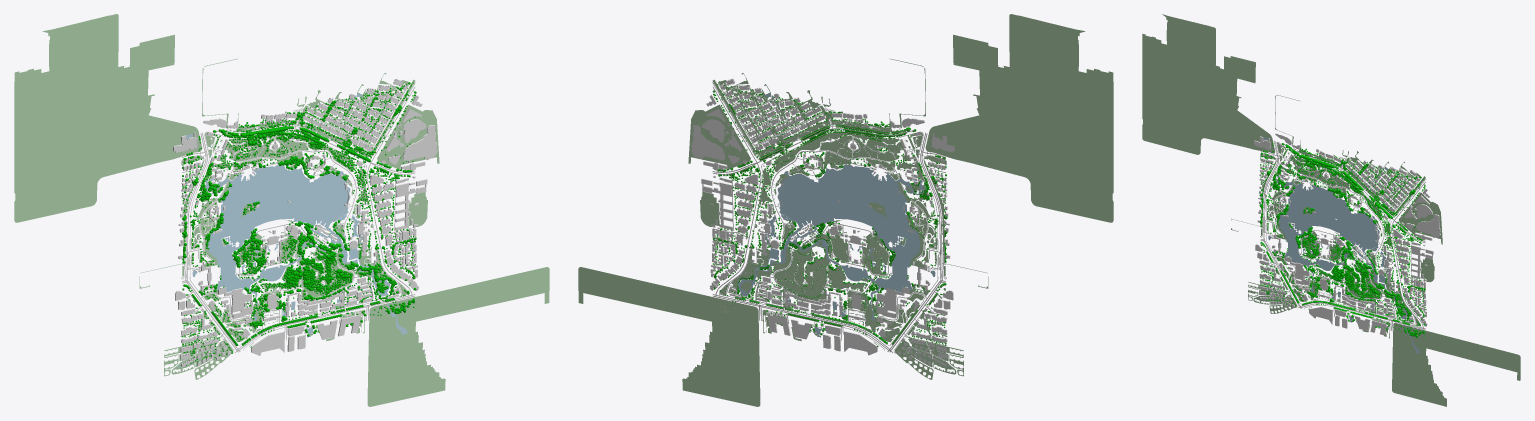
3 views of the same model, side by side, from view 1: azimuth 30°, elevation 25°; view 2: azimuth 150°, elevation 25°; view 3: azimuth 330°, elevation 25° (orthographic). The views are drawn at different scales.
Parts seen in each view (by area): view 1: TPX_GreenAreas, TPX_Buildings, TPX_Waterways_1, TPX_RoadsOutlines; view 2: TPX_GreenAreas, TPX_Buildings, TPX_Waterways_1, TPX_RoadsOutlines; view 3: TPX_GreenAreas, TPX_Buildings, TPX_Waterways_1, TPX_RoadsOutlines.
Boxes of the visible parts, left/top/right/bottom form: TPX_GreenAreas: left=14, top=14, right=549, bottom=406; TPX_Buildings: left=173, top=79, right=437, bottom=366; TPX_Waterways_1: left=178, top=93, right=407, bottom=367; TPX_RoadsOutlines: left=182, top=83, right=415, bottom=362; TPX_GreenAreas: left=578, top=14, right=1113, bottom=406; TPX_Buildings: left=691, top=78, right=954, bottom=366; TPX_Waterways_1: left=738, top=93, right=950, bottom=367; TPX_RoadsOutlines: left=712, top=82, right=945, bottom=362; TPX_GreenAreas: left=1142, top=14, right=1520, bottom=406; TPX_Buildings: left=1254, top=133, right=1440, bottom=337; TPX_Waterways_1: left=1258, top=137, right=1420, bottom=353; TPX_RoadsOutlines: left=1260, top=140, right=1425, bottom=334.
Size of the model in its own units: 2423 by 1978 by 27.49.
